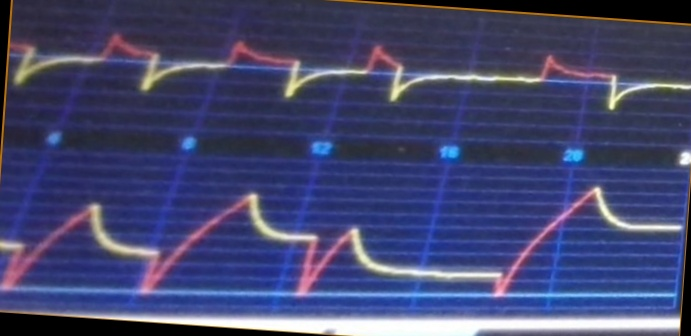Flow: (10, 28, 691, 123)
Leakage Volume: (1, 179, 680, 306)
